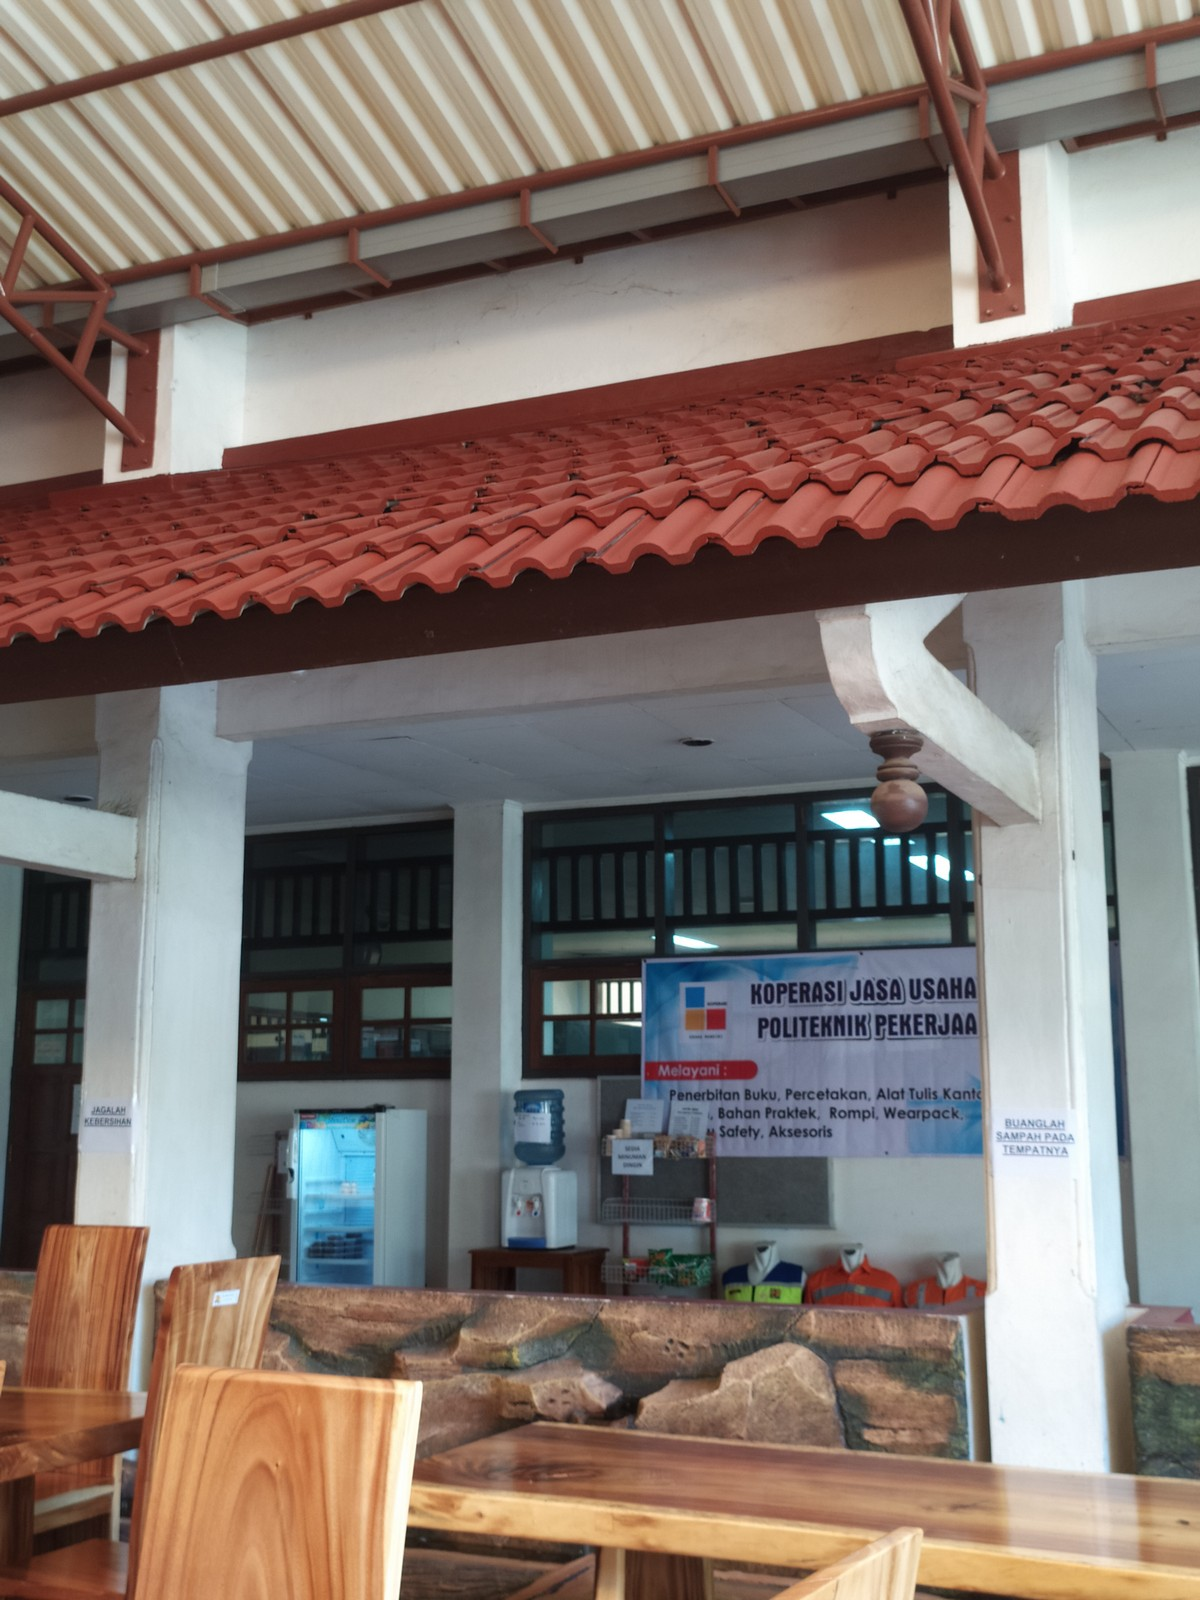concrete beam: (923, 661, 1051, 838), (6, 792, 144, 896)
concrete column: (953, 596, 1153, 1477), (50, 694, 260, 1257), (430, 797, 541, 1286)
